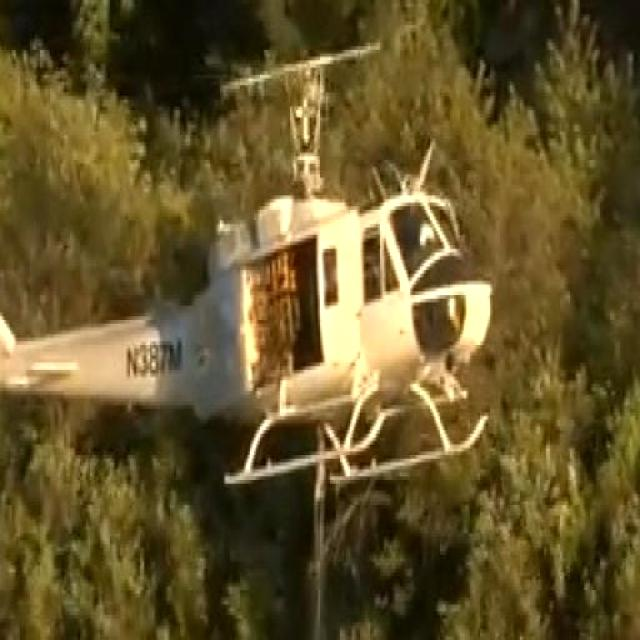drone: (0, 28, 499, 506)
